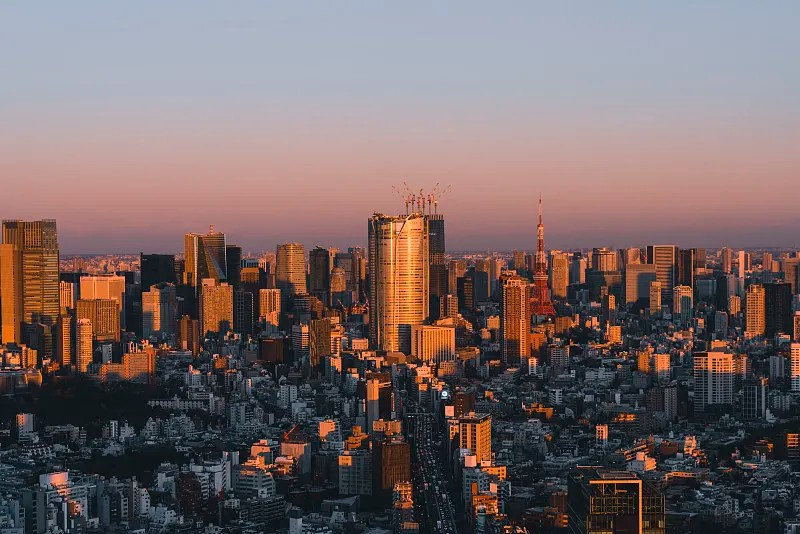Tokyo: (529, 189, 558, 317)
